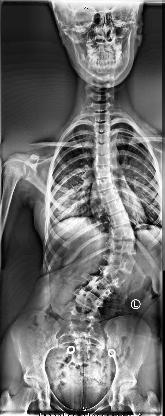Vertebrae: (76, 288, 102, 314), (88, 273, 114, 299), (101, 263, 125, 289), (110, 226, 138, 244), (112, 238, 138, 256), (102, 198, 128, 216), (108, 254, 132, 272), (108, 212, 134, 228), (99, 188, 121, 204), (96, 177, 120, 191), (90, 110, 114, 124), (92, 142, 114, 156), (92, 130, 114, 144), (93, 164, 114, 178), (94, 119, 113, 132), (92, 154, 115, 164)
